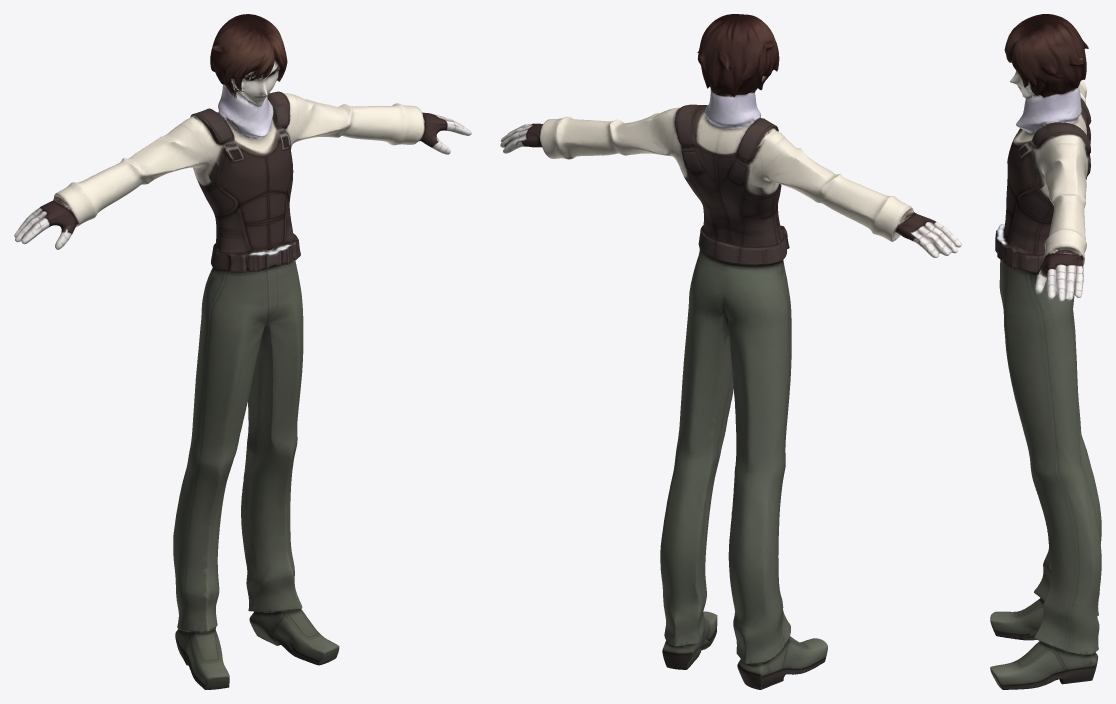
Rendered from Player.fbx.
3 renders of one model, left to right at view 1: azimuth 30°, elevation 25°; view 2: azimuth 150°, elevation 25°; view 3: azimuth 270°, elevation 25°, orthographic.
Parts seen in each view (by area): view 1: Mesh_0; view 2: Mesh_0; view 3: Mesh_0.
Part boxes in pixels (bbox=[...]): Mesh_0: bbox=[14, 14, 471, 689]; Mesh_0: bbox=[500, 14, 961, 689]; Mesh_0: bbox=[990, 14, 1101, 689].
Size of the model in its own units: 140 by 190 by 29.96.
Materials: 1 (1 with a texture image).
